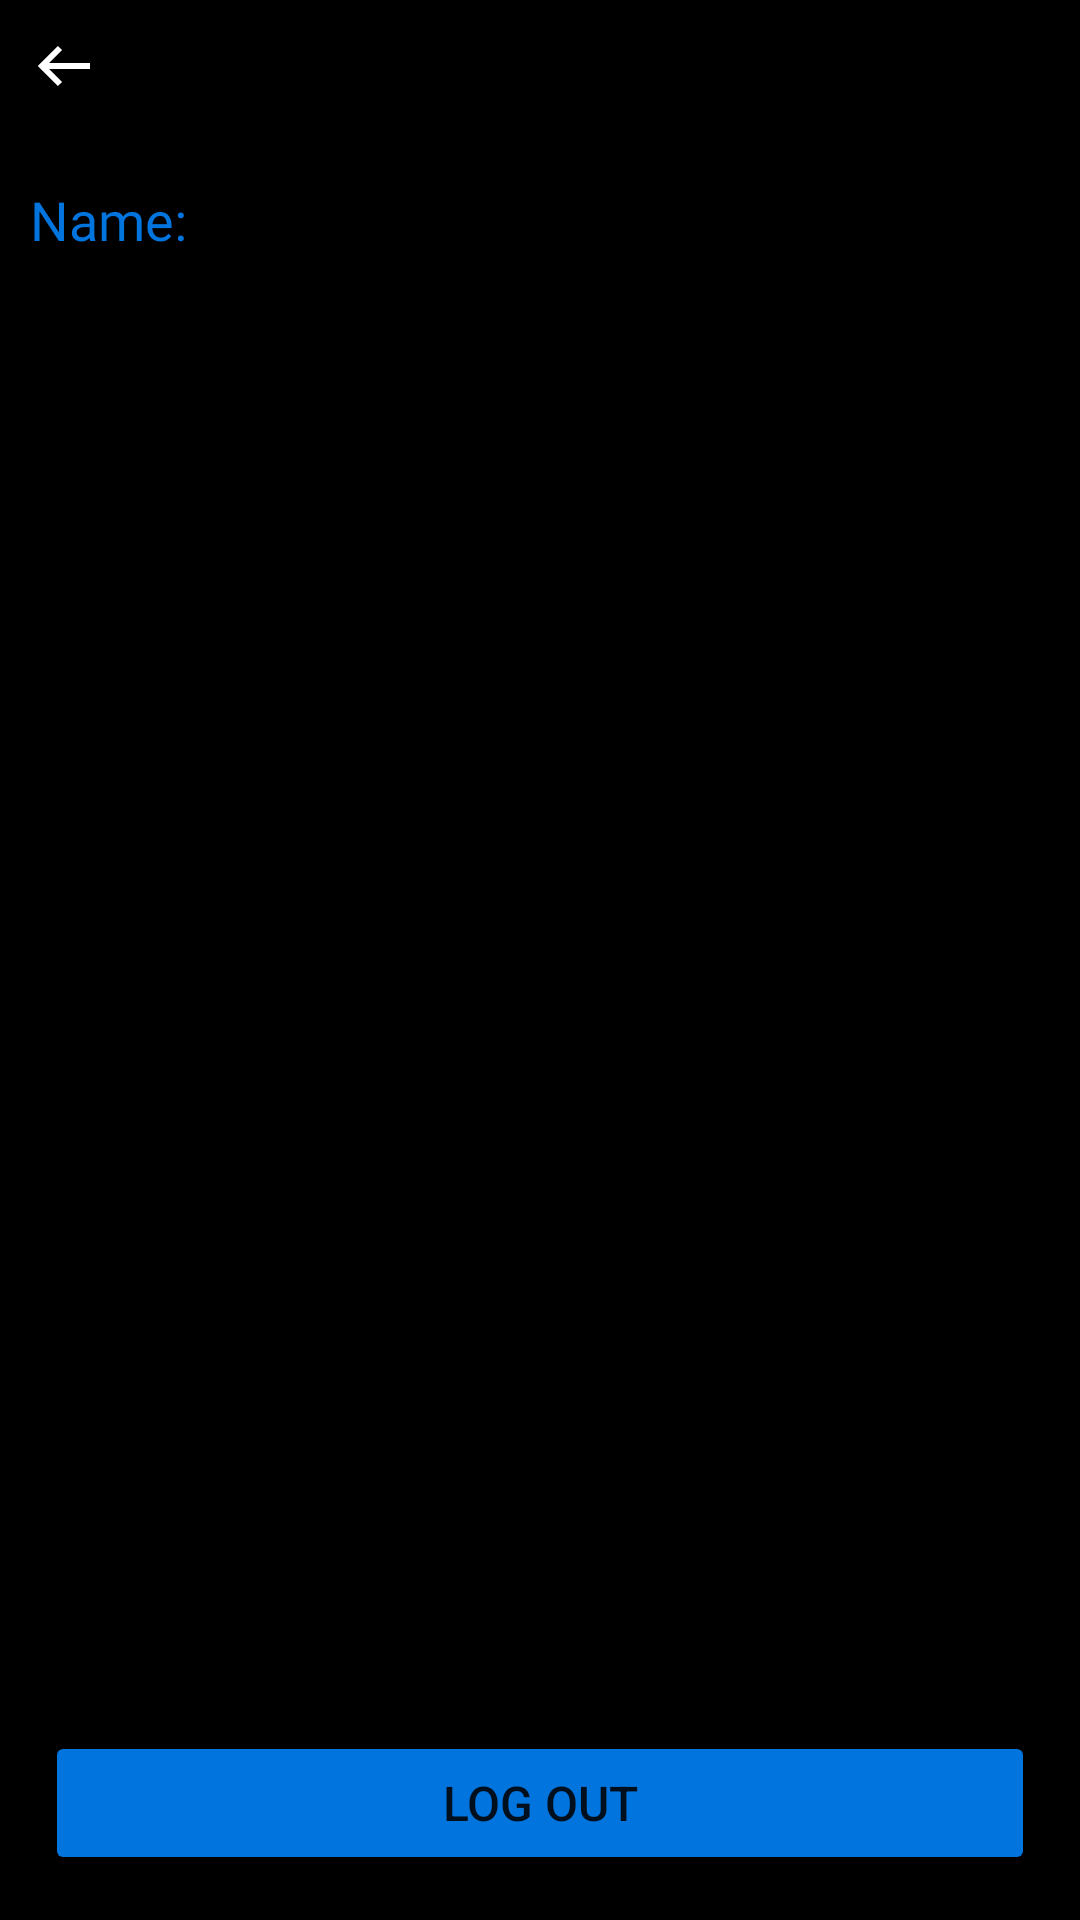

Screen size 1080*1920. Icon name, then its center in pixels as (x=x, y=y):
back: (x=64, y=66)
